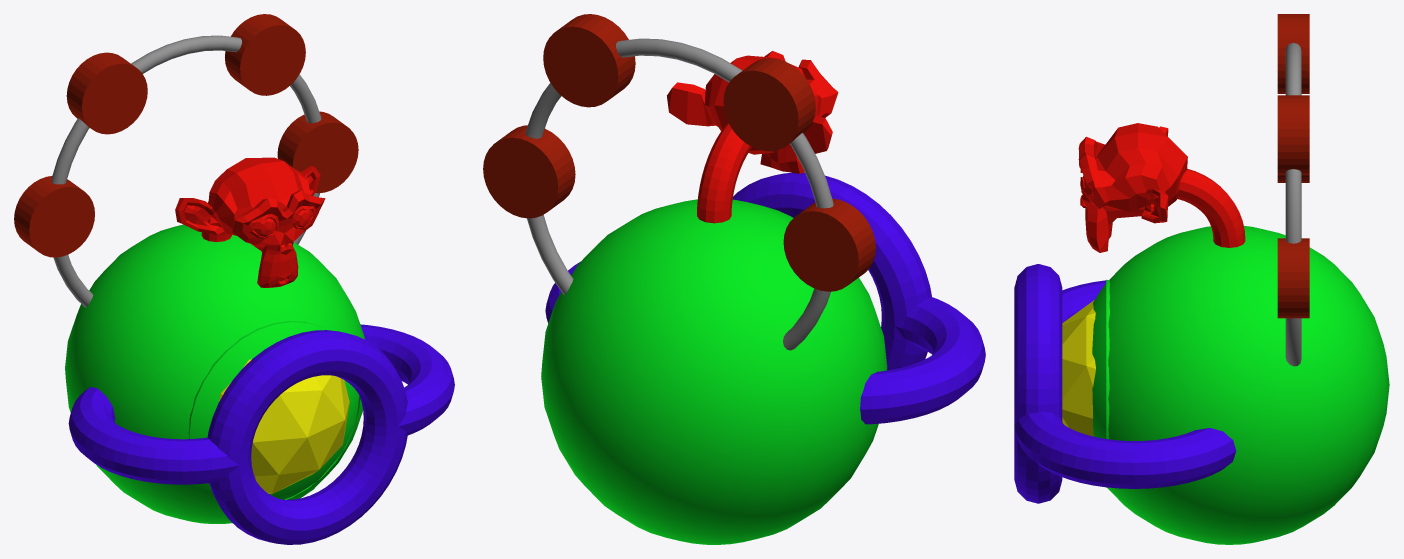
The model's file is player.glb.
The picture shows the model from 3 angles, left to right: view 1: azimuth 30°, elevation 25°; view 2: azimuth 150°, elevation 25°; view 3: azimuth 270°, elevation 25°; orthographic projection. The views are drawn at different scales.
Parts seen in each view (by area): view 1: Sphere, Torus.004, Suzanne, real, Torus.002, Cylinder.003, Torus.003, Cylinder, Cylinder.002, Torus.007, Cylinder.001, Sphere.001; view 2: Sphere, Torus.002, Torus.004, Torus.007, Cylinder.003, Cylinder, Cylinder.001, Cylinder.002, Suzanne, Torus; view 3: Sphere, Torus.003, Suzanne, Torus.004, real, Torus.007, Torus, Cylinder.001, Cylinder.002, Cylinder.003, Torus.002, Sphere.001.
Boxes of the visible parts, x1,y1,x2,y2 form: Sphere: [65, 224, 364, 523]; Torus.004: [207, 330, 407, 544]; Suzanne: [175, 157, 325, 287]; real: [219, 359, 349, 494]; Torus.002: [68, 387, 239, 484]; Cylinder.003: [66, 52, 147, 134]; Torus.003: [360, 324, 454, 435]; Cylinder: [14, 176, 94, 257]; Cylinder.002: [225, 14, 305, 95]; Torus.007: [51, 35, 321, 307]; Cylinder.001: [277, 111, 358, 193]; Sphere.001: [188, 320, 360, 499]; Sphere: [541, 199, 887, 544]; Torus.002: [860, 297, 985, 424]; Torus.004: [732, 172, 931, 370]; Torus.007: [525, 38, 833, 350]; Cylinder.003: [723, 58, 815, 151]; Cylinder: [783, 198, 875, 291]; Cylinder.001: [483, 125, 575, 218]; Cylinder.002: [543, 14, 635, 107]; Suzanne: [667, 51, 838, 173]; Torus: [697, 122, 751, 223]; Sphere: [1092, 226, 1389, 544]; Torus.003: [1014, 411, 1236, 488]; Suzanne: [1078, 123, 1187, 252]; Torus.004: [1014, 264, 1062, 503]; real: [1062, 300, 1095, 436]; Torus.007: [1285, 42, 1301, 366]; Torus: [1176, 169, 1245, 247]; Cylinder.001: [1277, 238, 1309, 318]; Cylinder.002: [1277, 95, 1309, 175]; Cylinder.003: [1277, 14, 1309, 93]; Torus.002: [1062, 280, 1106, 322]; Sphere.001: [1106, 279, 1109, 487].
Bounding box in the file's own units: 13.5 × 16.25 × 11.71.
